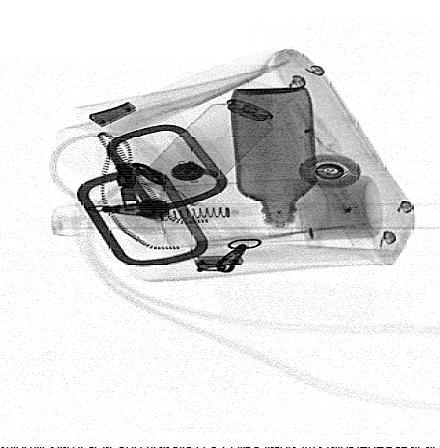Sprayer: (134, 81, 294, 205)
